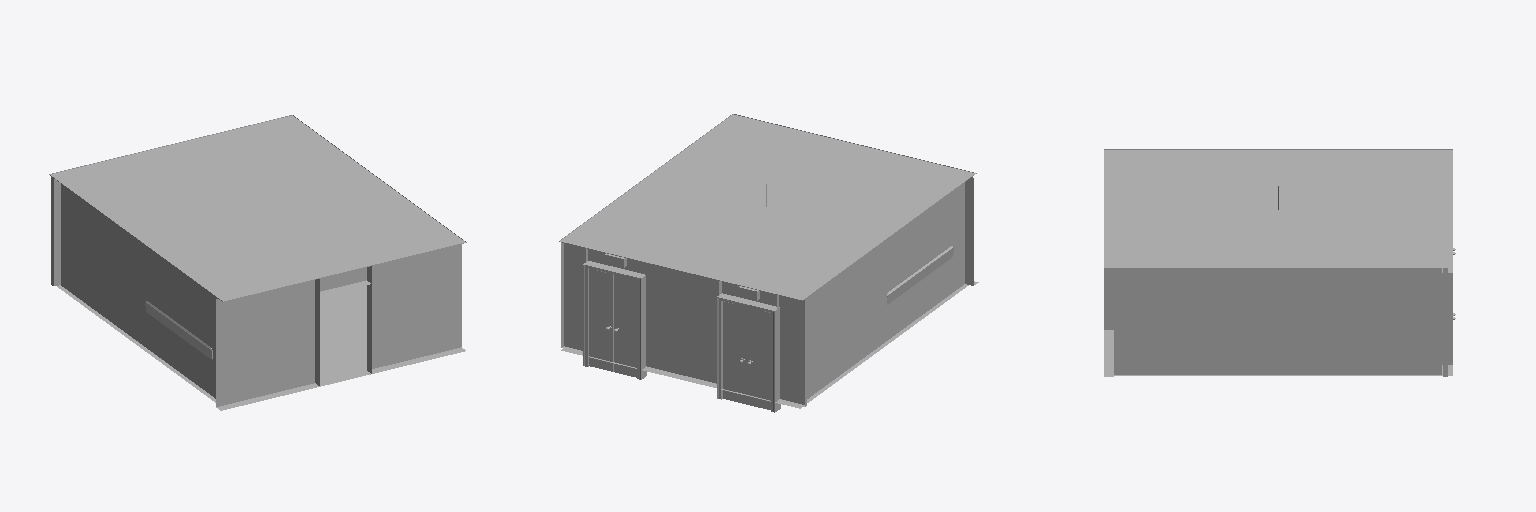
The model's file is RZ_room1_lifts.obj.
3 renders of one model, left to right at view 1: azimuth 30°, elevation 25°; view 2: azimuth 150°, elevation 25°; view 3: azimuth 270°, elevation 25°, orthographic.
Parts seen in each view (by area): view 1: room1lifts_opt; view 2: room1lifts_opt; view 3: room1lifts_opt.
Boxes of the visible parts, box(x1,y1,x2,y2) form: room1lifts_opt: box(49, 115, 466, 410); room1lifts_opt: box(559, 114, 978, 412); room1lifts_opt: box(1104, 149, 1455, 376).
Size of the model in its own units: 9.12 by 5.03 by 11.3.